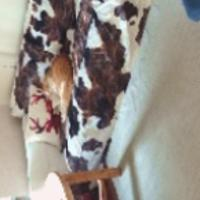asleep: (42, 53, 73, 122)
